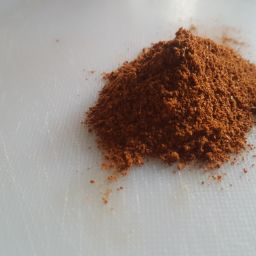Cinemon powder: (76, 22, 256, 199)
